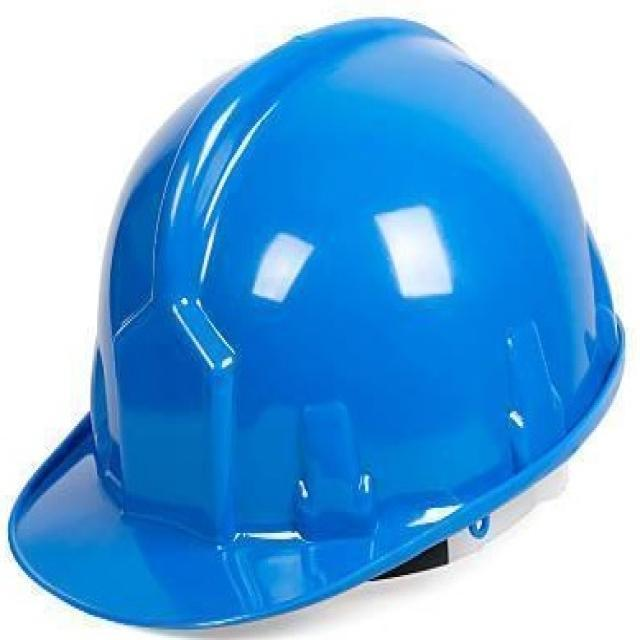helmet: (10, 20, 624, 627)
